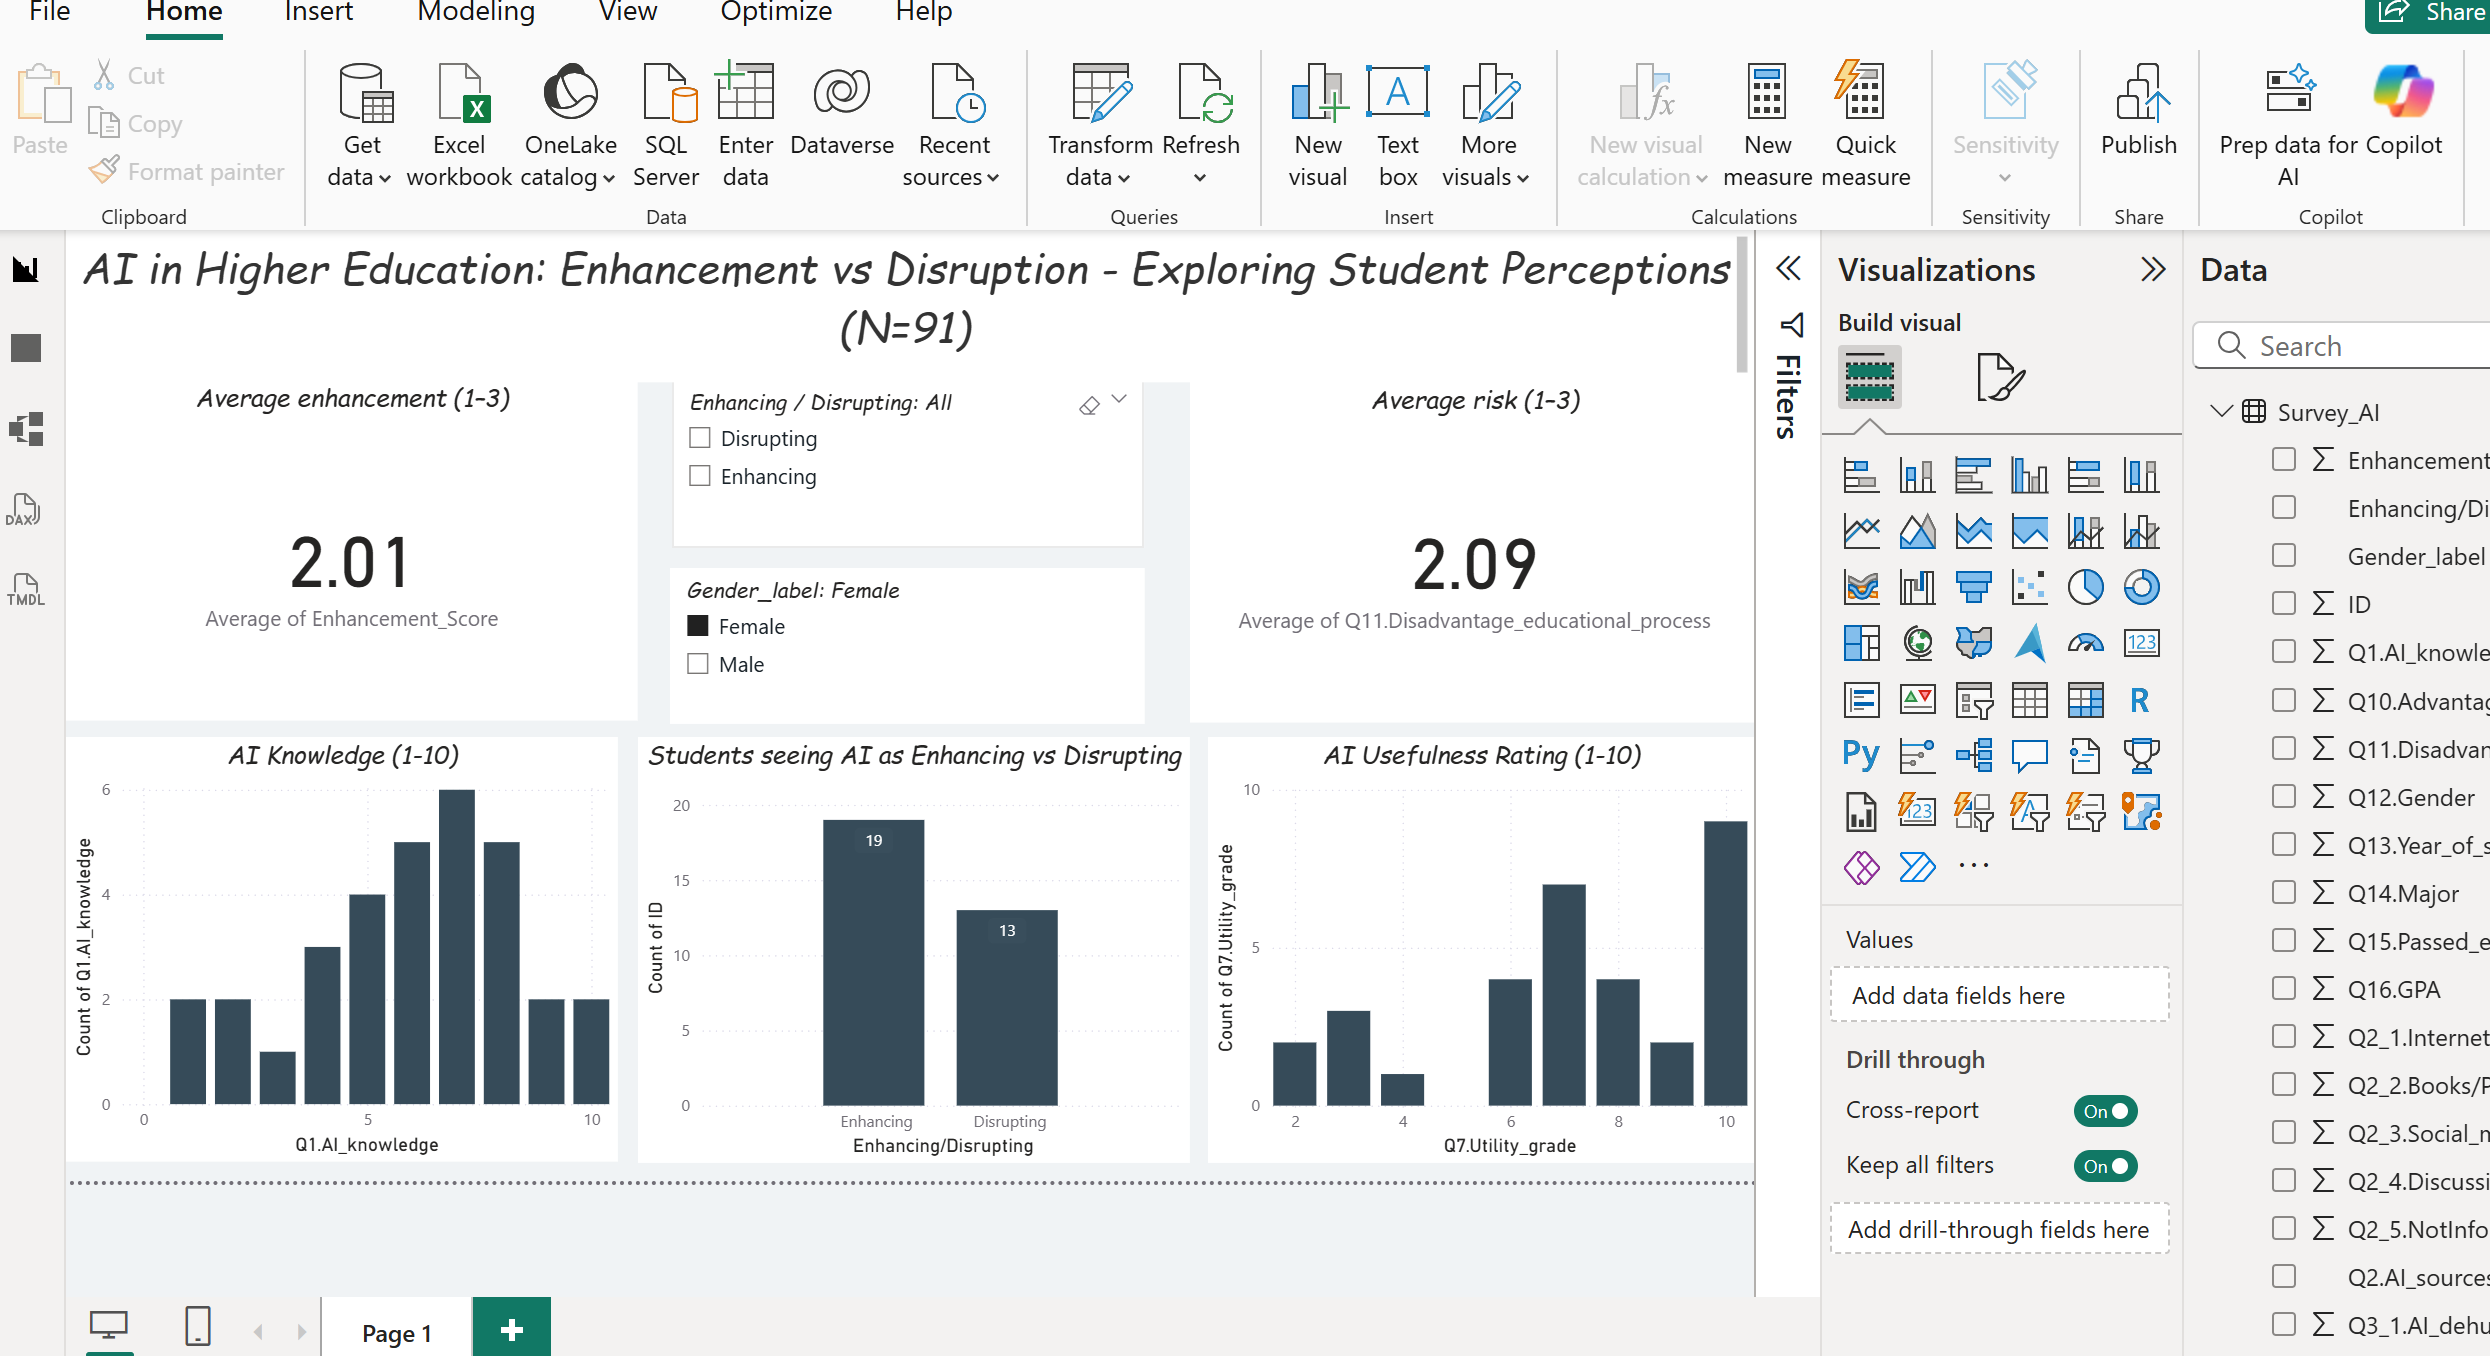

The page's visual inventory and layout, read from the dashboard file:
{"tool":"powerbi","page":{"name":"Page 1","canvas":[1280,720],"ordinal":0},"visuals":[{"type":"card","title":"Average enhancement (1–3)","fields":{"Values":["Avg(Survey_AI.Enhancement_Score)"]},"box":[0,113.6,433.6,257.5],"z":0},{"type":"clusteredColumnChart","title":"Students seeing AI as Enhancing vs Disrupting","fields":{"Category":["Survey_AI.Enhancing/Disrupting"],"Y":["CountNonNull(Survey_AI.ID)"]},"box":[433.7,383.7,418.6,323],"z":1000},{"type":"card","title":"Average risk (1–3)","fields":{"Values":["Avg(Survey_AI.Q11.Disadvantage_educational_process)"]},"box":[852.1,115.5,431.7,257.5],"z":2000},{"type":"slicer","fields":{"Values":["Survey_AI.Enhancing/Disrupting"]},"box":[460.1,113.6,357.9,126.9],"z":3000},{"type":"slicer","fields":{"Values":["Survey_AI.Gender_label"]},"box":[458.2,255.6,359.8,117.4],"z":4000},{"type":"textbox","box":[0,0,1280,115.5],"z":5000},{"type":"clusteredColumnChart","title":"AI Knowledge (1-10)","fields":{"Category":["Survey_AI.Q1.AI_knowledge"],"Y":["CountNonNull(Survey_AI.Q1.AI_knowledge)"]},"box":[0,384.4,418.5,321.9],"z":6000},{"type":"clusteredColumnChart","title":"AI Usefulness Rating (1-10)","fields":{"Category":["Survey_AI.Q7.Utility_grade"],"Y":["CountNonNull(Survey_AI.Q7.Utility_grade)"]},"box":[866,383.7,414,323],"z":7000}]}

Visuals, with their boxes on the page's 1280x720 design canvas (x1, y1, x2, y2). These are canvas units, not pixel positions in the 2490x1356 screenshot, which may show the page scaled, cropped or inside an application window:
"Average enhancement (1–3)" card: <region>0, 114, 434, 371</region>
"Students seeing AI as Enhancing vs Disrupting" clusteredColumnChart: <region>434, 384, 852, 707</region>
"Average risk (1–3)" card: <region>852, 116, 1284, 373</region>
slicer - Survey_AI.Enhancing/Disrupting: <region>460, 114, 818, 240</region>
slicer - Survey_AI.Gender_label: <region>458, 256, 818, 373</region>
textbox: <region>0, 0, 1280, 116</region>
"AI Knowledge (1-10)" clusteredColumnChart: <region>0, 384, 418, 706</region>
"AI Usefulness Rating (1-10)" clusteredColumnChart: <region>866, 384, 1280, 707</region>
